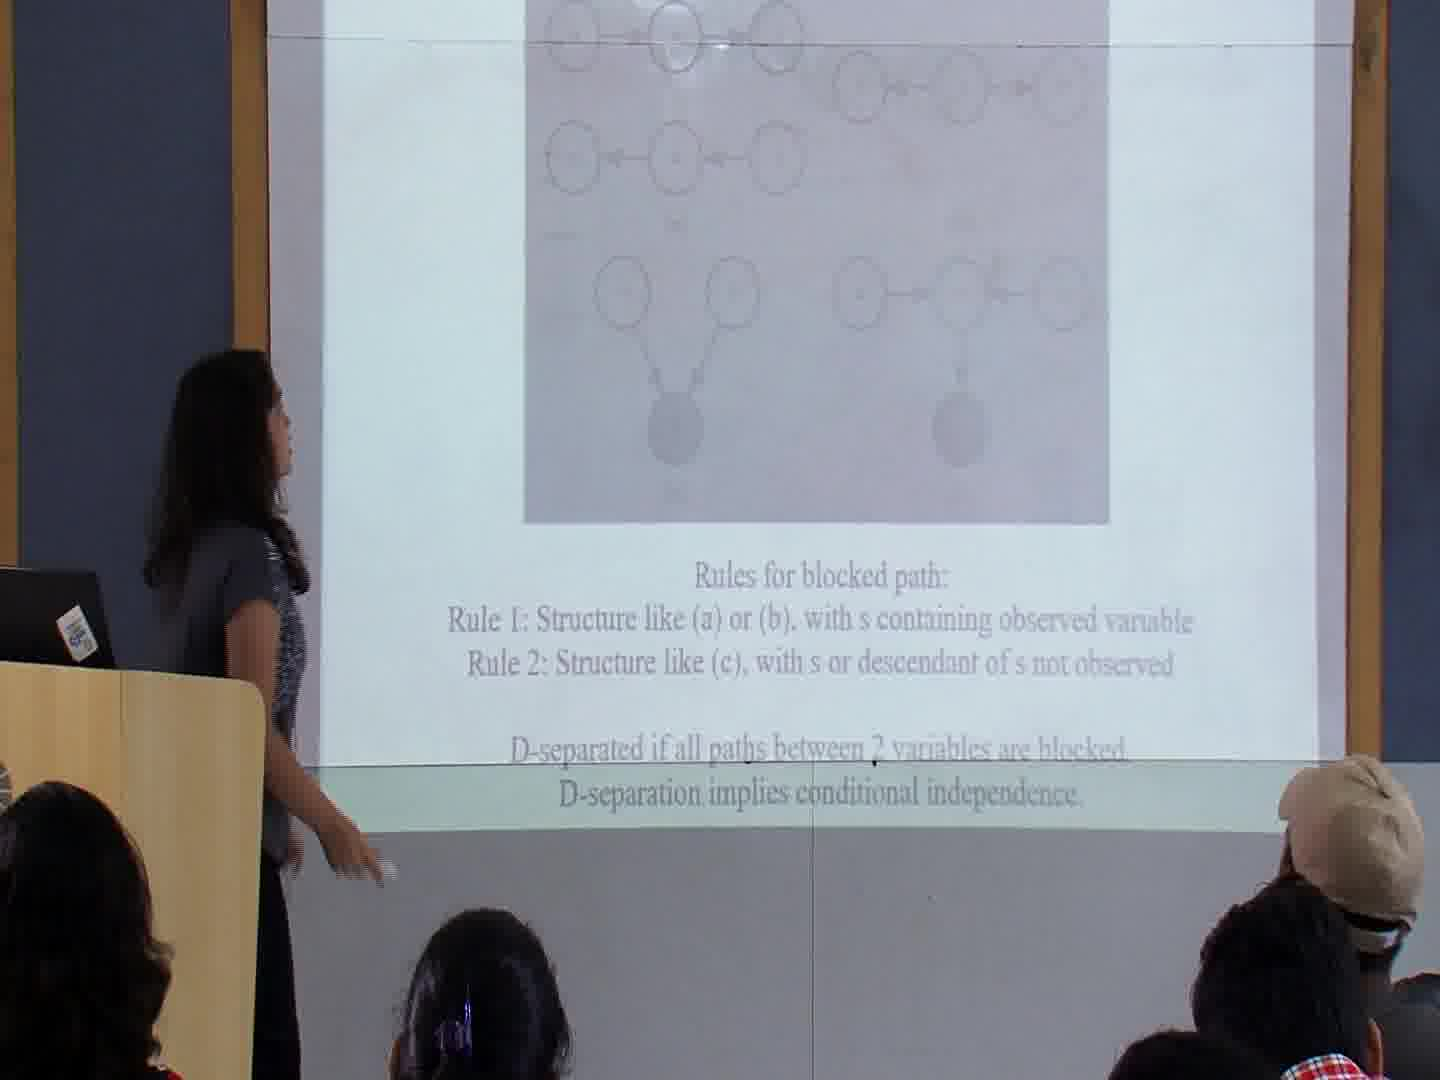fig: (523, 1, 1110, 523)
